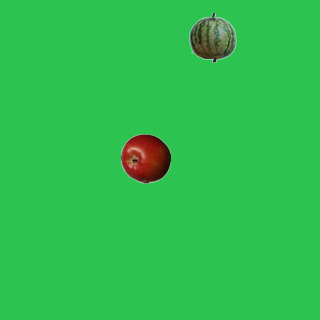Apple Braeburn: (120, 133, 170, 183)
Watermelon: (187, 12, 237, 62)
